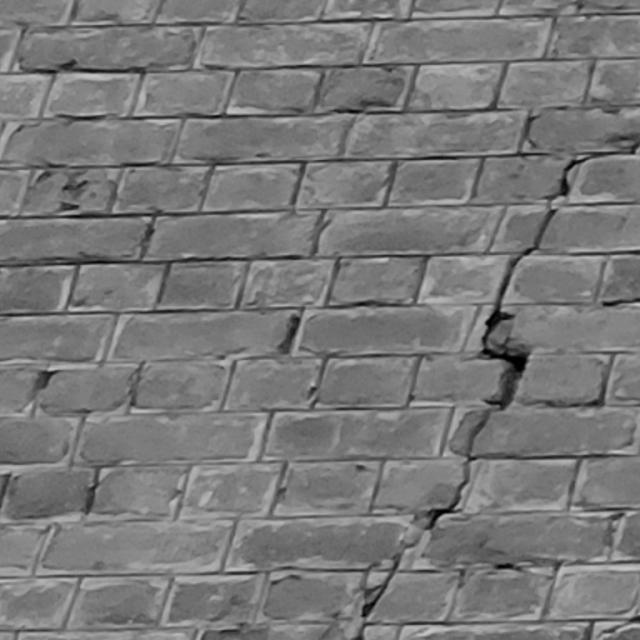crack: (355, 141, 639, 640)
